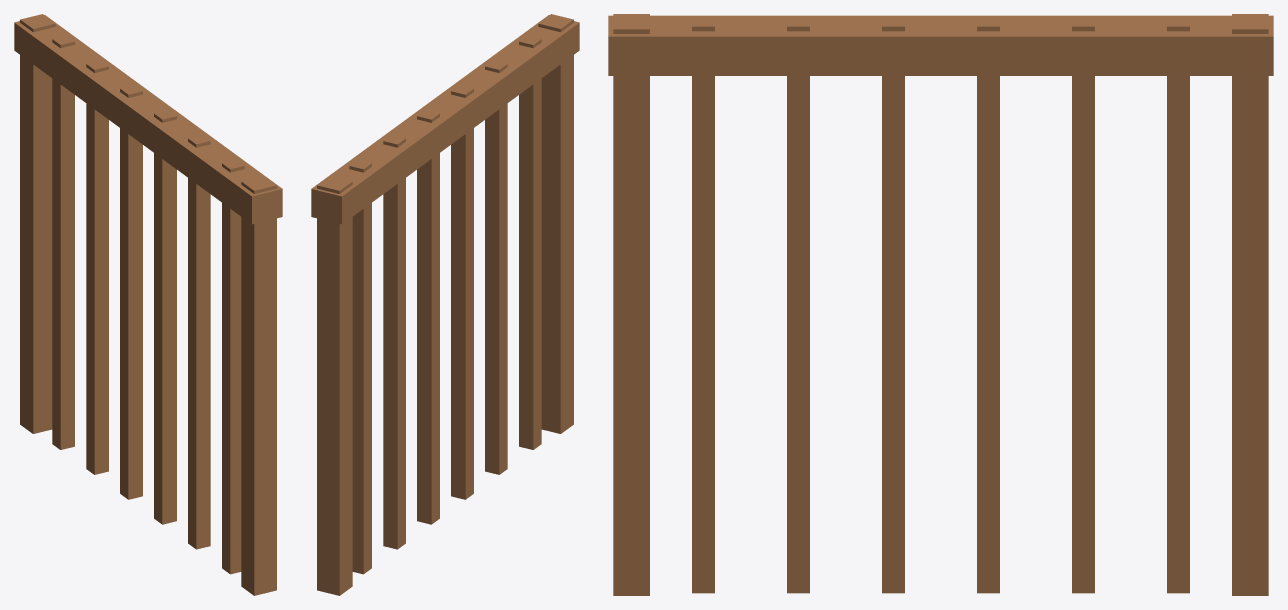
File: res_rail_end.glb
3 views of the same model, side by side, from view 1: azimuth 30°, elevation 25°; view 2: azimuth 150°, elevation 25°; view 3: azimuth 270°, elevation 25° (orthographic). The views are drawn at different scales.
Parts seen in each view (by area): view 1: res_rail_end; view 2: res_rail_end; view 3: res_rail_end.
Boxes of the visible parts, x1=… form: res_rail_end: x1=14, y1=14, x2=282, y2=595; res_rail_end: x1=311, y1=14, x2=579, y2=595; res_rail_end: x1=608, y1=14, x2=1273, y2=595.
Bounding box in the file's own units: 0.075 × 0.94 × 1.
